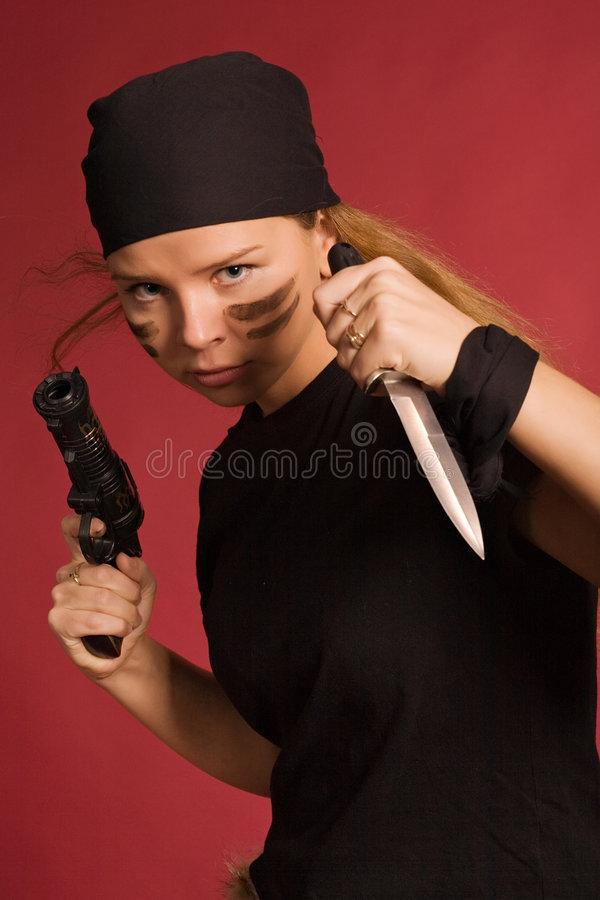criminal: (24, 46, 600, 900)
weapon: (326, 238, 493, 565), (26, 362, 154, 666)
